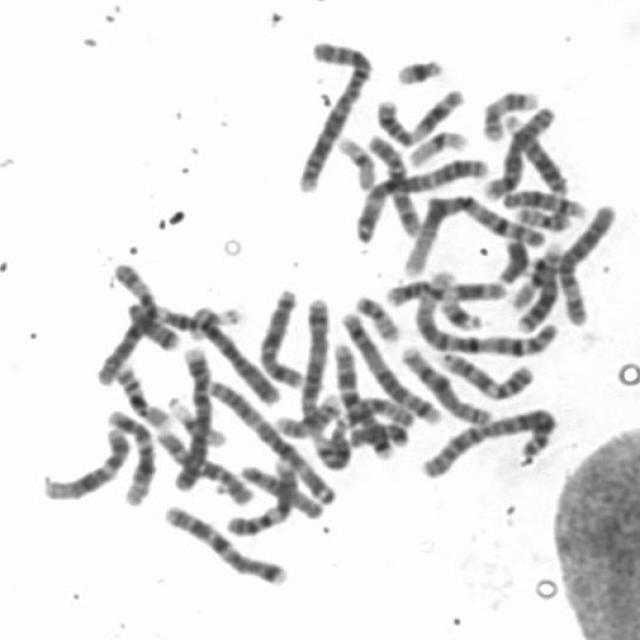A1: (411, 263, 564, 358), (398, 188, 550, 278)
A2: (289, 33, 374, 196), (416, 400, 564, 482)
A3: (205, 371, 340, 511), (349, 152, 489, 244)
B4: (119, 296, 287, 408), (167, 342, 214, 494)
B5: (334, 304, 444, 426), (293, 292, 336, 443)
C10: (150, 424, 254, 506), (364, 132, 424, 238)
C11: (370, 82, 468, 148), (380, 273, 512, 307)
C12: (34, 422, 132, 502), (102, 404, 158, 507)
C6: (92, 256, 164, 389), (553, 196, 622, 330)
C7: (158, 499, 290, 588), (327, 338, 397, 461)
C8: (396, 339, 496, 427), (480, 101, 559, 201)
C9: (222, 454, 300, 538), (435, 345, 536, 400)
D13: (498, 110, 570, 198), (511, 237, 566, 334)
D14: (498, 184, 591, 220), (306, 423, 358, 475)
D15: (234, 458, 326, 520), (332, 392, 418, 432)
E16: (507, 237, 568, 313), (108, 358, 171, 429)
E17: (477, 82, 541, 142), (270, 388, 343, 439)
E18: (122, 300, 181, 353), (344, 415, 413, 451)
F19: (330, 129, 378, 192), (403, 124, 471, 168)
F20: (350, 289, 403, 344), (509, 200, 573, 232)
G21: (390, 51, 448, 86), (434, 293, 486, 332)
G22: (158, 395, 226, 448), (185, 302, 243, 343)
X: (252, 283, 306, 389)
Y: (492, 233, 530, 284)
